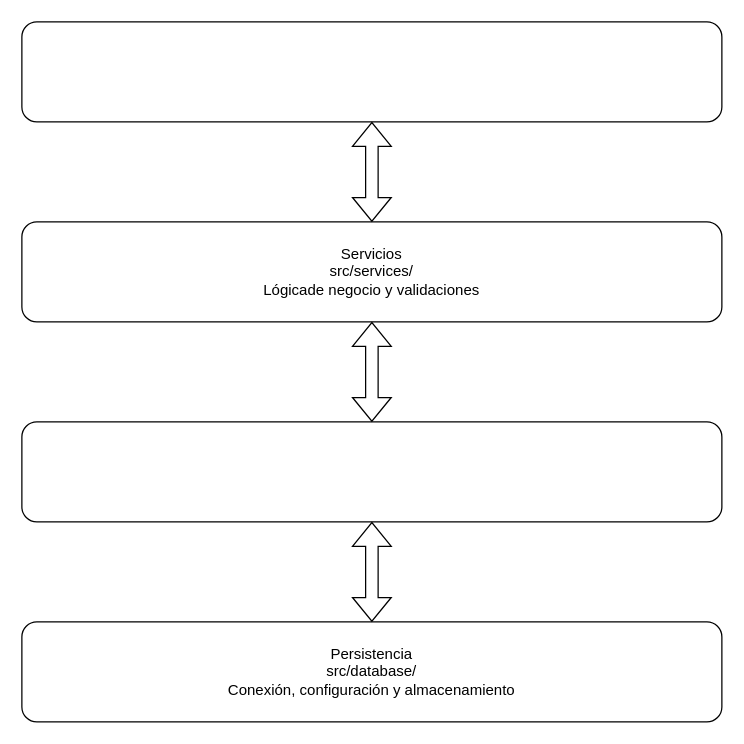
Some shapes in this 744 by 744 pixel diagram are drawn without their labels. The centre of each missing label's shape, as x and y in pixels:
"Interfaz de usuario src/ui/ Páginas, formularios y visualización" belongs at (371,71).
"Repositorios src/repositories/ Consultas y operaciones de acceso a datos" belongs at (371,471).
